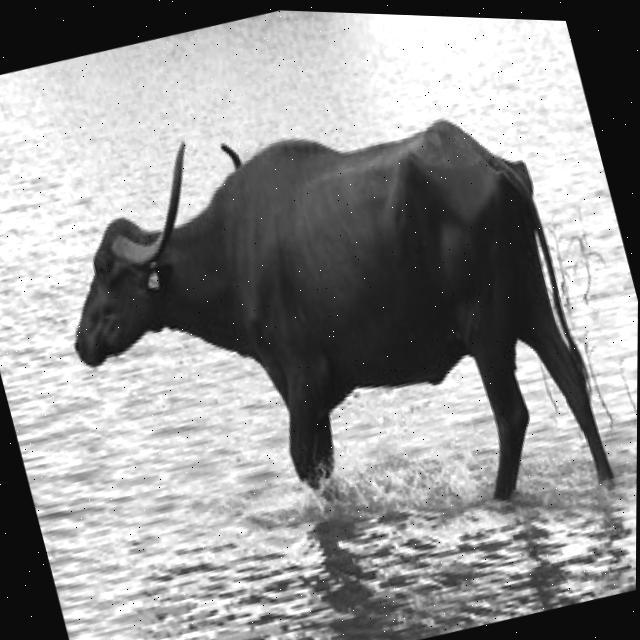Buffalo: (22, 41, 625, 614)
